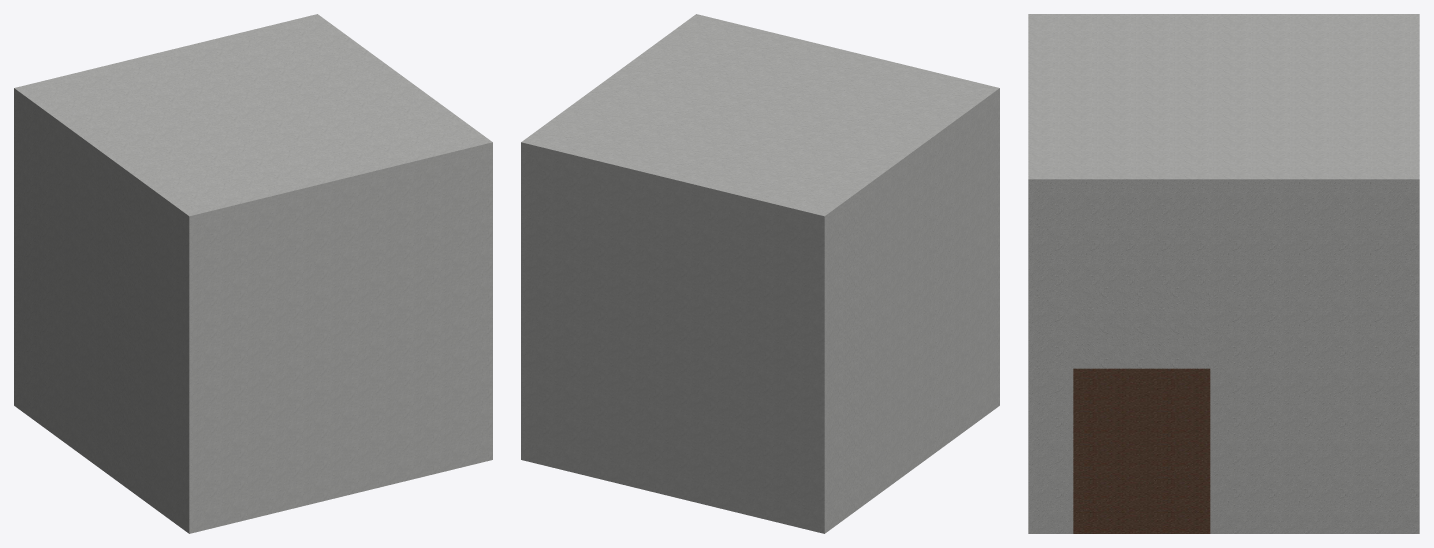
Rendered from Rooom.dae.
3 views of the same model, side by side, from view 1: azimuth 30°, elevation 25°; view 2: azimuth 150°, elevation 25°; view 3: azimuth 270°, elevation 25° (orthographic). The views are drawn at different scales.
Visible parts, largest first — view 1: SketchUp; view 2: SketchUp; view 3: SketchUp (×2).
Boxes of the visible parts, <box> form: SketchUp: <box>14,14,492,533</box>; SketchUp: <box>521,14,999,533</box>; SketchUp (×2): <box>1028,14,1419,533</box>.
Size of the model in its own units: 120 by 120 by 120.
Materials: 2 (2 with a texture image).
